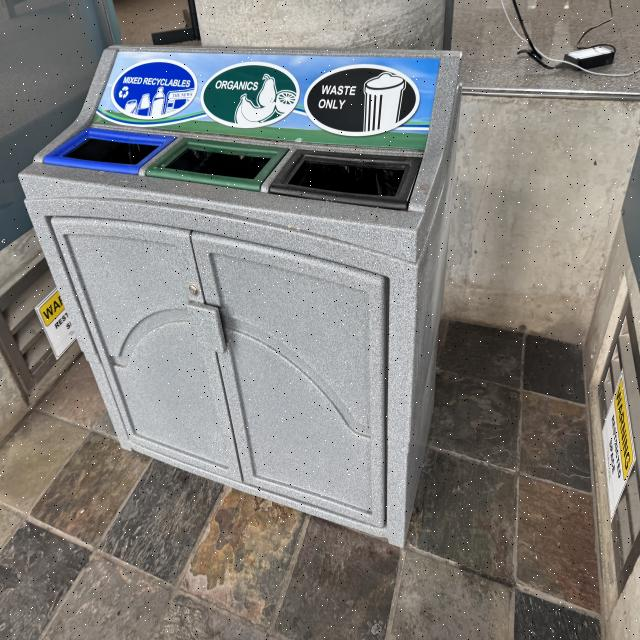Dustbin: (17, 49, 463, 548)
